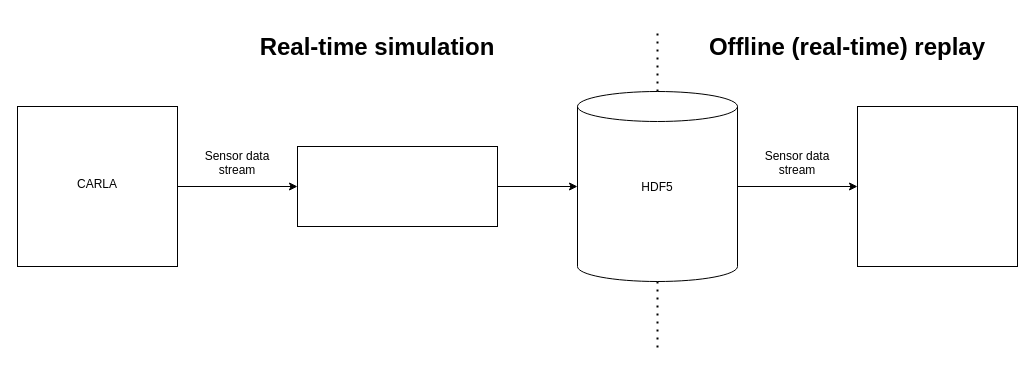
Image size: 1035x367. Some labels were removed from this diagram. The centre of each missing label's shape, as x and y in pixels:
"Discrete-event simulation" goes at point (937, 186).
"Python client" goes at point (397, 186).
